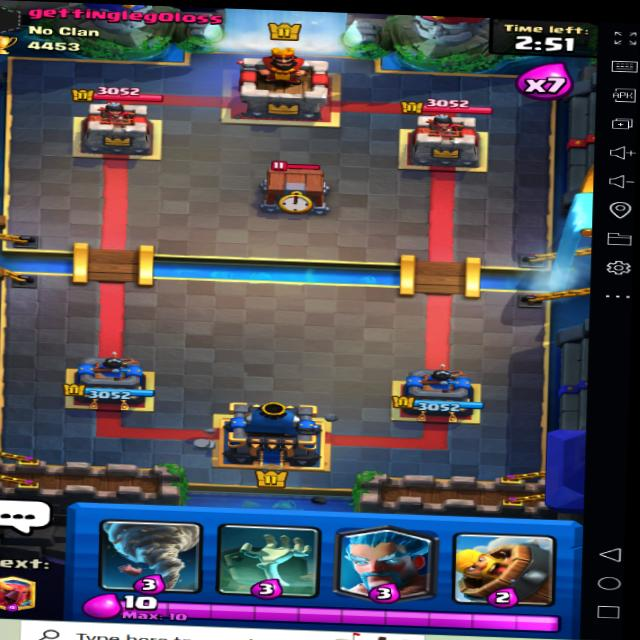Goblincage: (254, 160, 333, 215)
